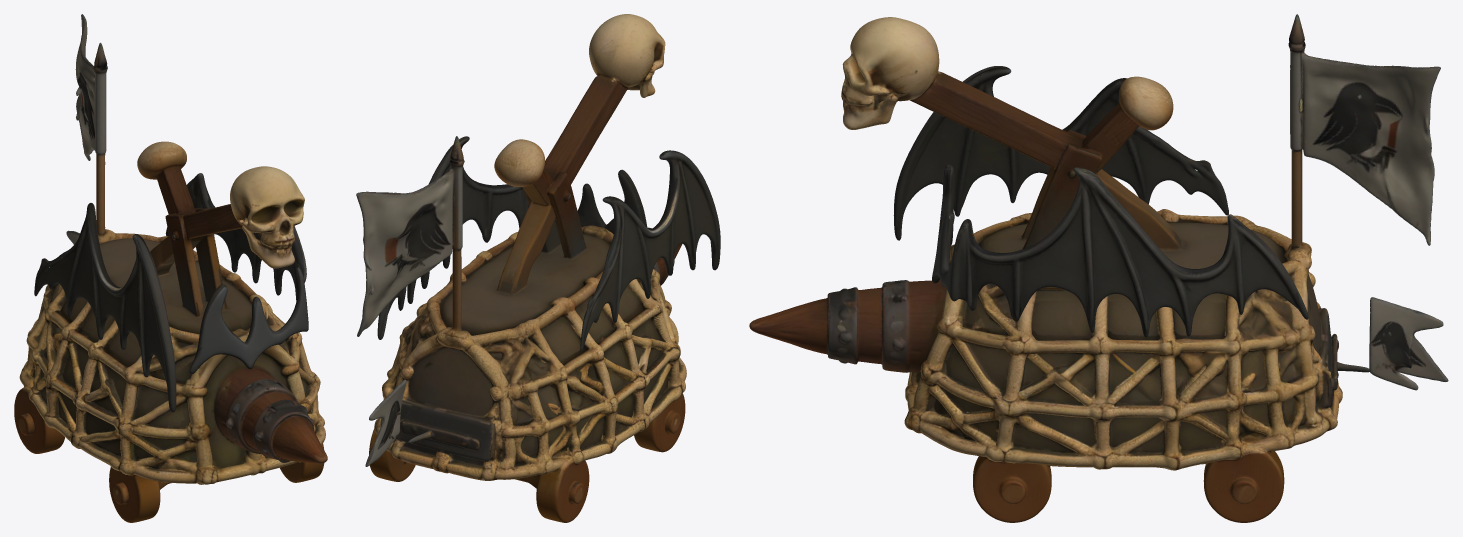
3 views of the same model, side by side, from view 1: azimuth 30°, elevation 25°; view 2: azimuth 150°, elevation 25°; view 3: azimuth 270°, elevation 25° (orthographic). The views are drawn at different scales.
Parts seen in each view (by area): view 1: tripo_node_055b31ba-4d30-44c3-9750-297946be06c8; view 2: tripo_node_055b31ba-4d30-44c3-9750-297946be06c8; view 3: tripo_node_055b31ba-4d30-44c3-9750-297946be06c8.
Part boxes in pixels (x1,y1,x2,y2): tripo_node_055b31ba-4d30-44c3-9750-297946be06c8: (14,14,327,522); tripo_node_055b31ba-4d30-44c3-9750-297946be06c8: (356,14,720,522); tripo_node_055b31ba-4d30-44c3-9750-297946be06c8: (749,14,1448,522).
Bounding box in the file's own units: 0.4326 × 0.7182 × 1.
1 material, 1 textured.
